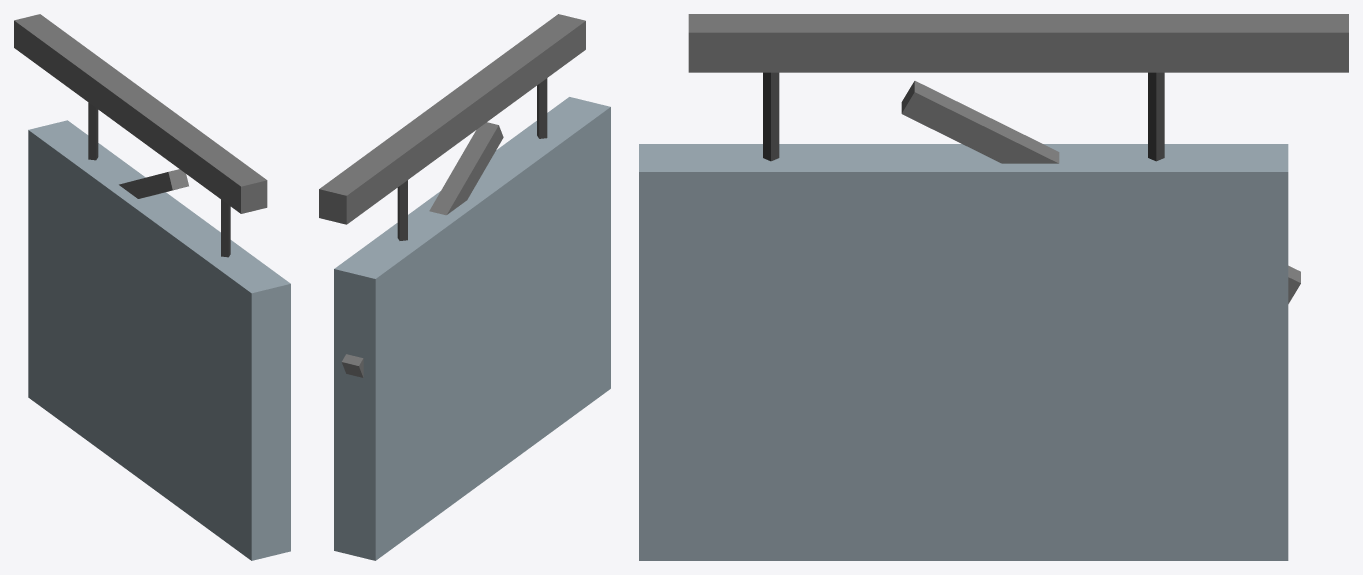
File: sign_bracket.glb
3 views of the same model, side by side, from view 1: azimuth 30°, elevation 25°; view 2: azimuth 150°, elevation 25°; view 3: azimuth 270°, elevation 25° (orthographic). The views are drawn at different scales.
Parts seen in each view (by area): view 1: sign_bracket; view 2: sign_bracket; view 3: sign_bracket.
Boxes of the visible parts, left/top/right/bottom form: sign_bracket: left=14, top=14, right=290, bottom=560; sign_bracket: left=319, top=14, right=610, bottom=560; sign_bracket: left=639, top=14, right=1348, bottom=560.
Size of the model in its own units: 0.12 by 1.05 by 1.29.
